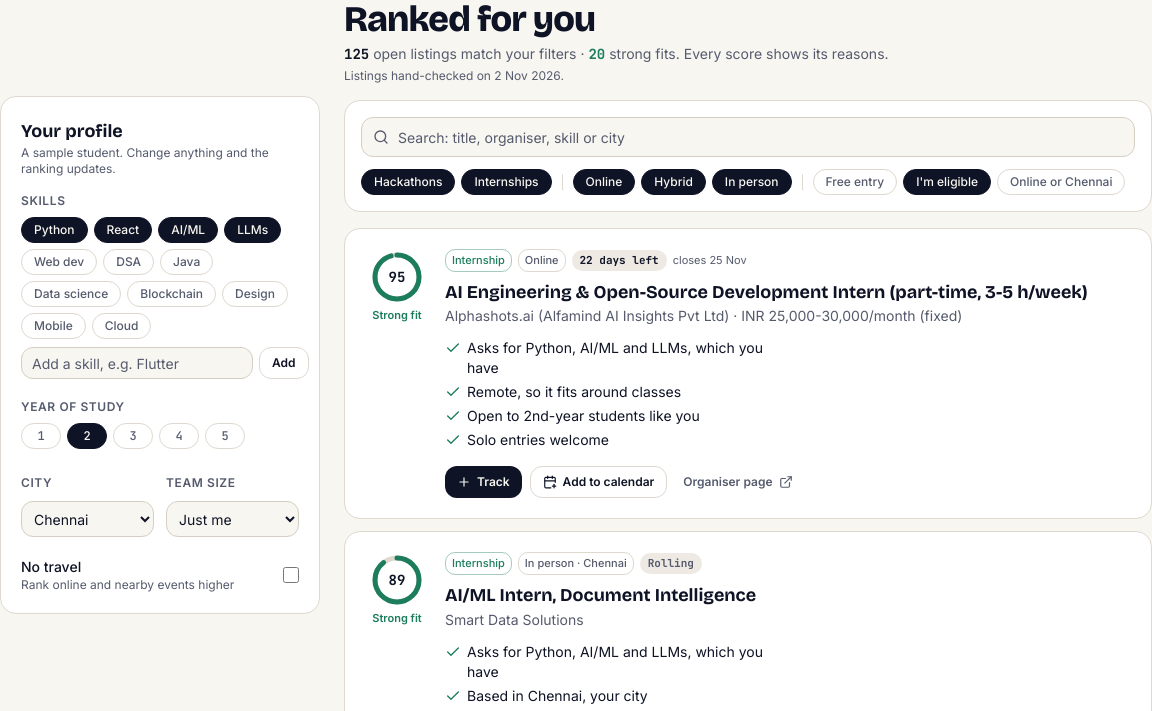
Test: MatchesView › shows an empty state with a reset
The image size is (1152, 711).
Later steps or results of the test are not shown.
In the search field named "Search listings": {"x": 748, "y": 137} [361,117,1135,157], type "zzzz-nothing"
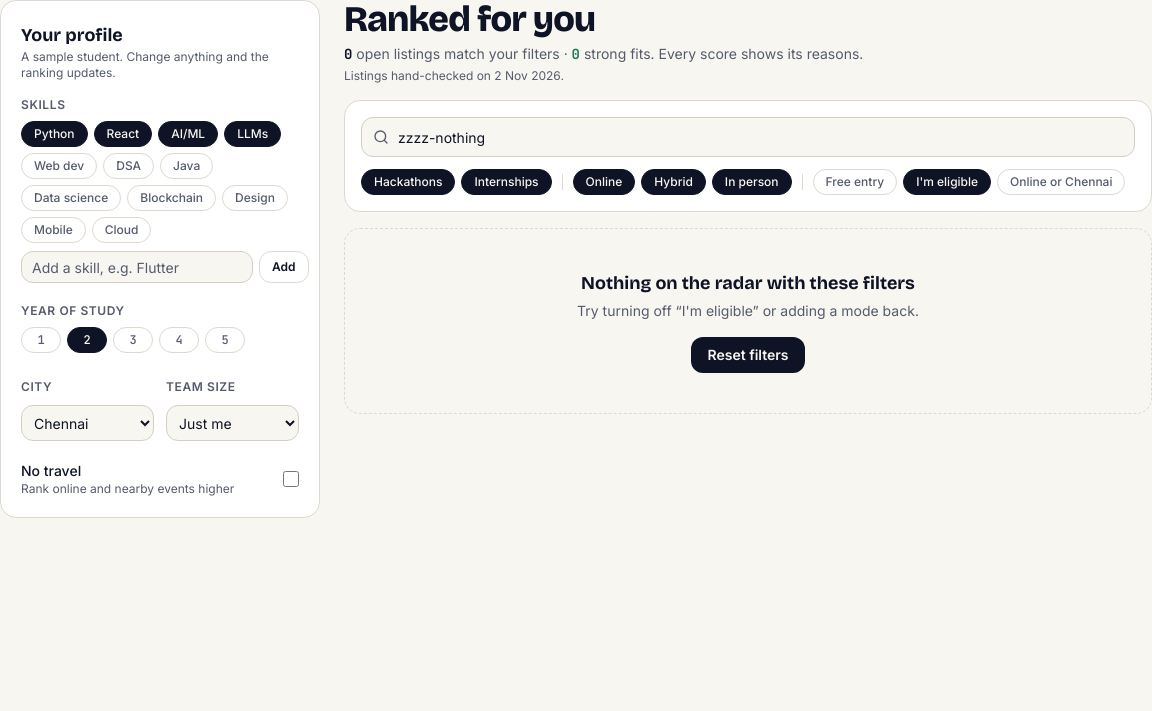
Expected: the text "Nothing on the radar with these filters" is shown, [581,272,915,294]
